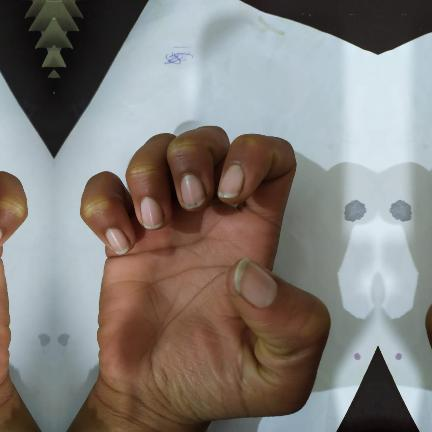Nail: (234, 257, 278, 308), (218, 165, 245, 198), (181, 174, 205, 209), (141, 197, 164, 229), (105, 228, 130, 255), (0, 229, 3, 241)
